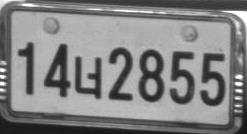1: (14, 41, 40, 95)
2: (108, 46, 132, 101)
4: (43, 42, 71, 97)
5: (198, 52, 227, 107), (169, 50, 195, 104)
8: (137, 49, 164, 102)
너: (74, 55, 103, 99)
